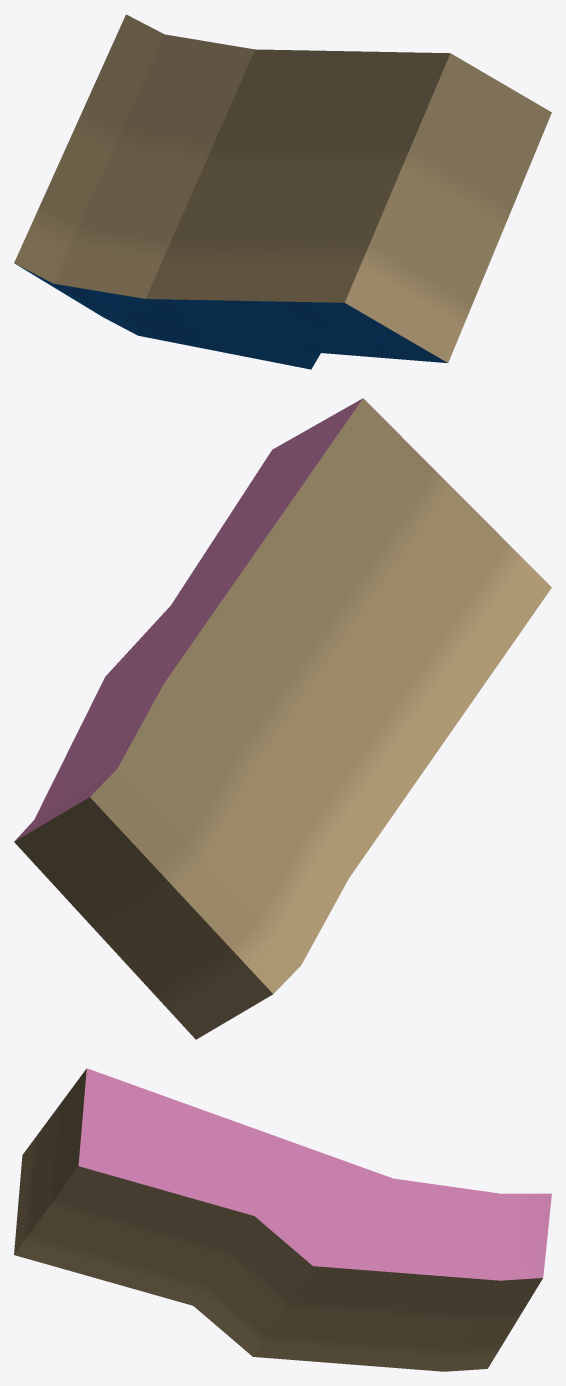
File: 065e_Malawi.glb
3 renders of one model, top to bottom at view 1: azimuth 30°, elevation 25°; view 2: azimuth 150°, elevation 25°; view 3: azimuth 270°, elevation 25°, orthographic. The views are drawn at different scales.
Parts seen in each view (by area): view 1: part_0; view 2: part_0; view 3: part_0.
Boxes of the visible parts, bbox=[...] form: part_0: bbox=[14, 14, 551, 369]; part_0: bbox=[14, 398, 551, 1039]; part_0: bbox=[14, 1068, 551, 1371].
Bounding box in the file's own units: 0.2384 × 0.343 × 0.499.
1 material, 1 textured.
